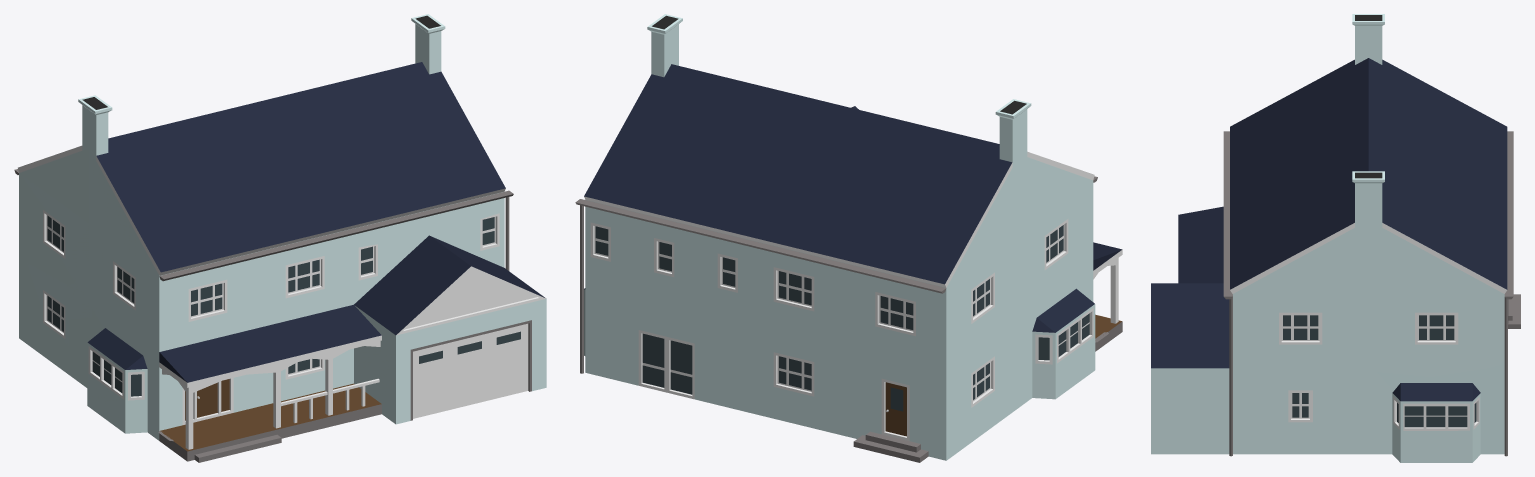
The model's file is buildings_building-house-family-large.fbx.
3 renders of one model, left to right at view 1: azimuth 30°, elevation 25°; view 2: azimuth 150°, elevation 25°; view 3: azimuth 270°, elevation 25°, orthographic. The views are drawn at different scales.
Parts seen in each view (by area): view 1: buildings_building_house_family_large; view 2: buildings_building_house_family_large; view 3: buildings_building_house_family_large.
Part boxes in pixels (<box>): buildings_building_house_family_large: <box>14,14,546,462</box>; buildings_building_house_family_large: <box>575,14,1122,462</box>; buildings_building_house_family_large: <box>1151,14,1520,462</box>.
Size of the model in its own units: 200 by 143 by 173.
